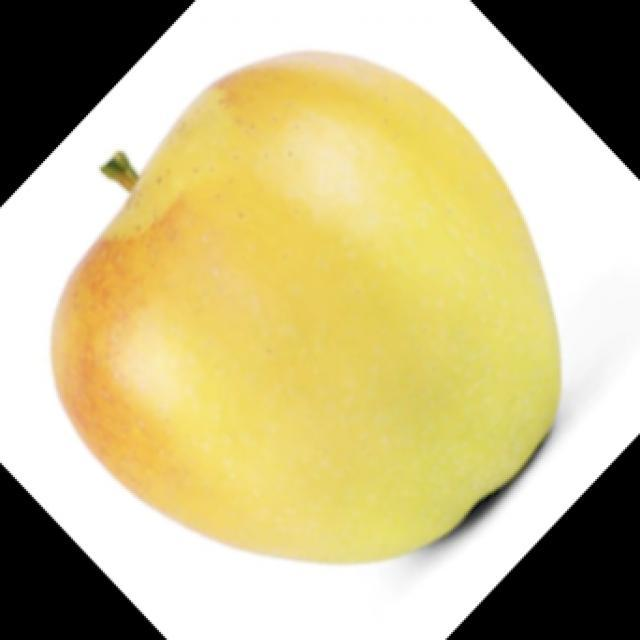Fresh Apple: (65, 55, 545, 565)
